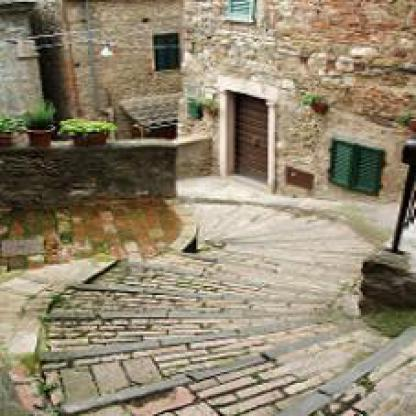stair_down: (38, 276, 360, 380)
